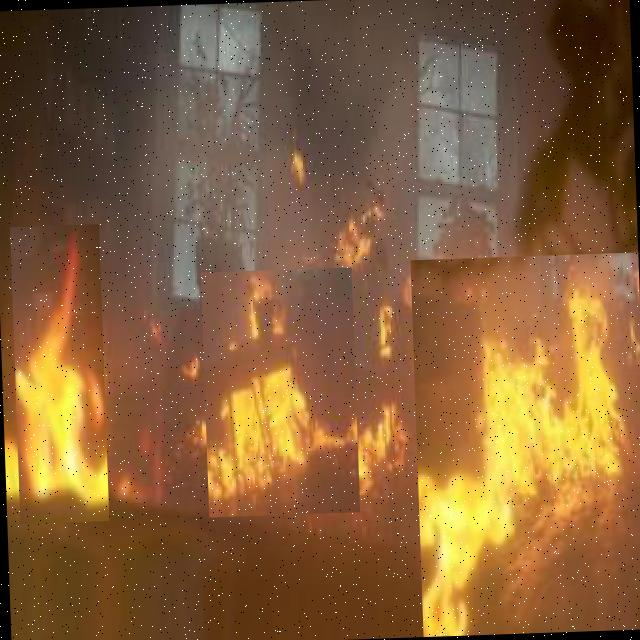fire: (410, 251, 640, 636), (200, 267, 360, 517), (10, 224, 109, 524)
